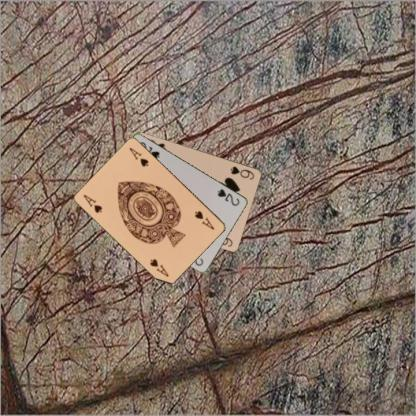2s: (214, 186, 241, 207)
6s: (228, 163, 256, 181)
As: (192, 208, 216, 231), (81, 192, 103, 214)
